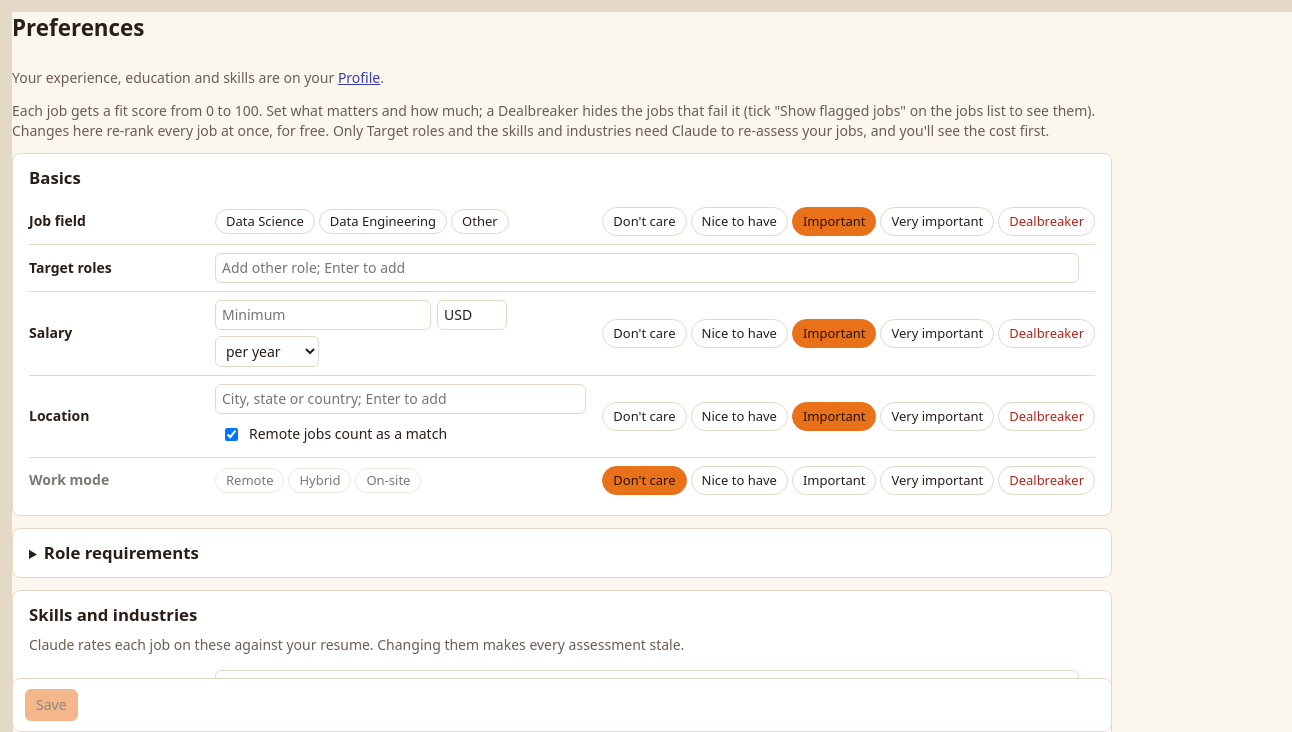
Scenario: PreferencesPage › a preference-only change saves straight away and reports the re-rank
This screenshot has width=1292, height=732.
In the number field named "Minimum salary": x=323, y=315 [215,300,431,330], type "120000"
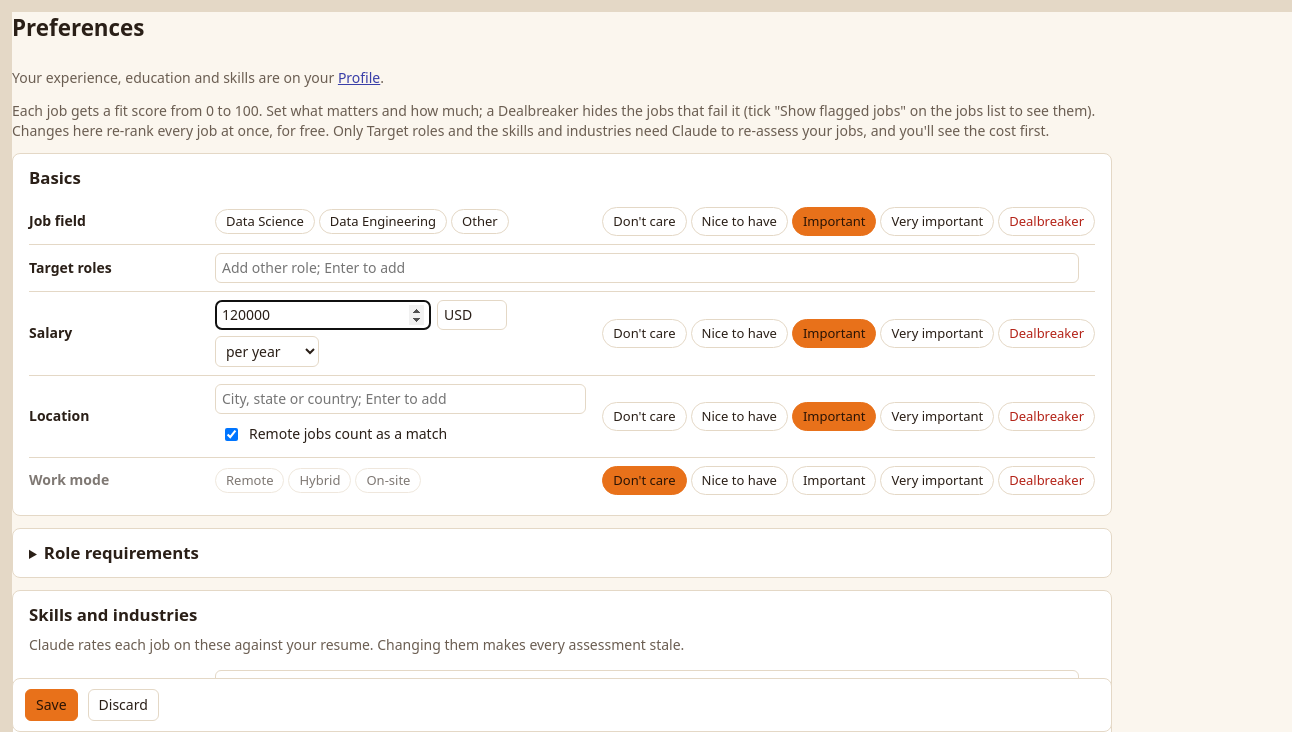
Click the button "Dealbreaker" in the row of "Salary": x=1047, y=334 [998,319,1095,348]
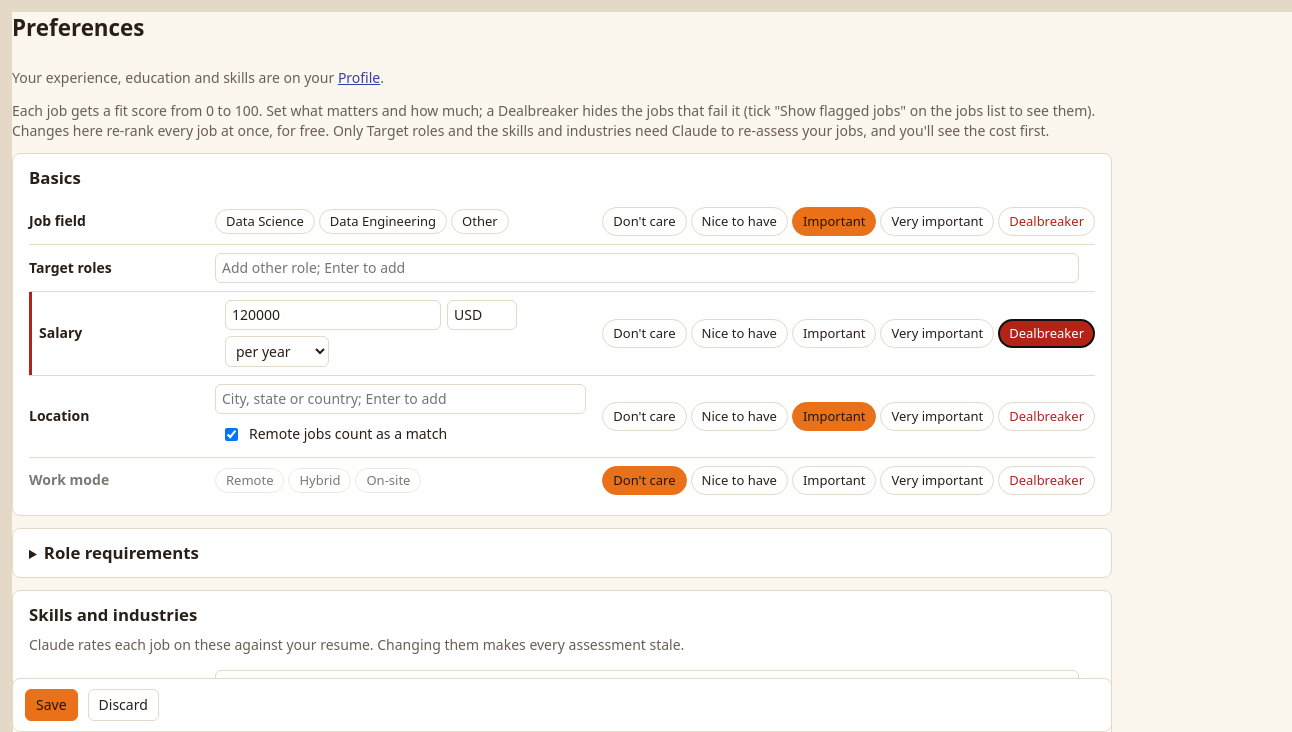
Check: the text "Salary" has class "dealbreaker", box [29,291,1095,375]
Click the button "Save": x=51, y=705 [25,689,78,721]
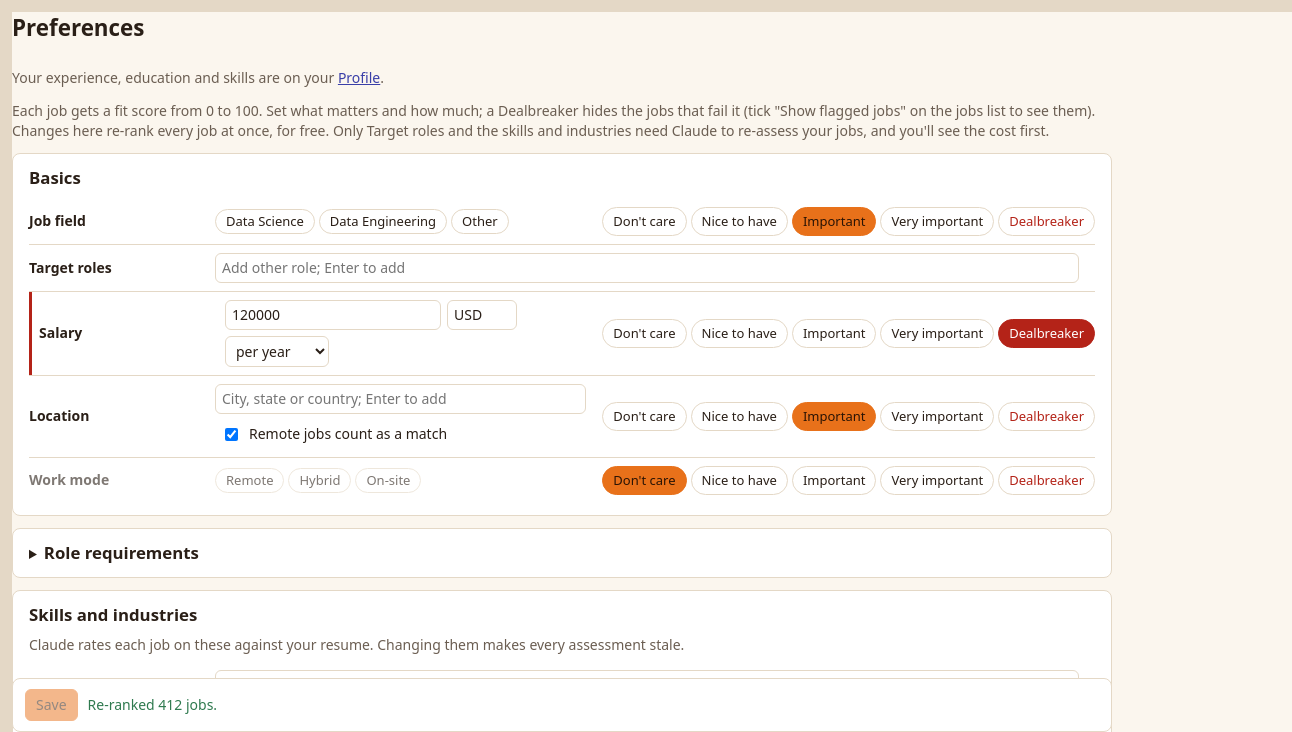
Check: the message reads "Re-ranked 412 jobs.", box [88,695,217,714]
Check: the button "Save" is disabled, box [25,689,78,721]
